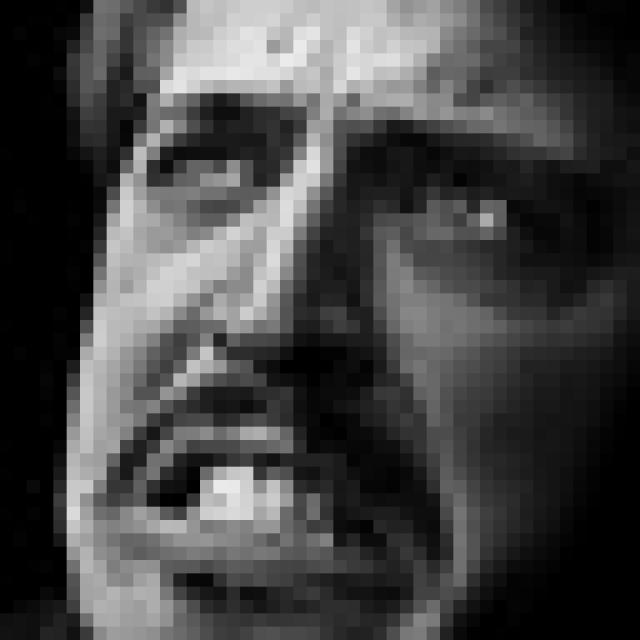angry: (93, 87, 544, 606)
